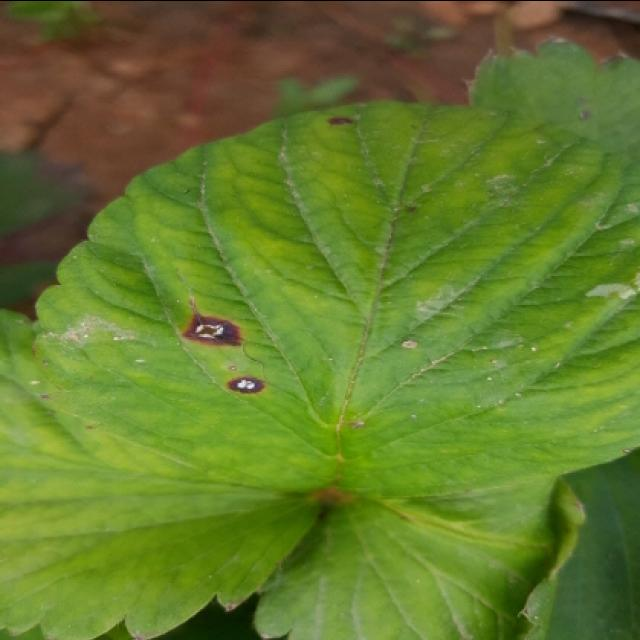Leaf Spot: (32, 99, 638, 501), (463, 33, 638, 157)
